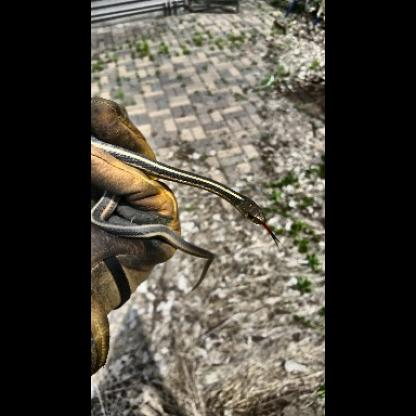Snake: (92, 138, 273, 242)
